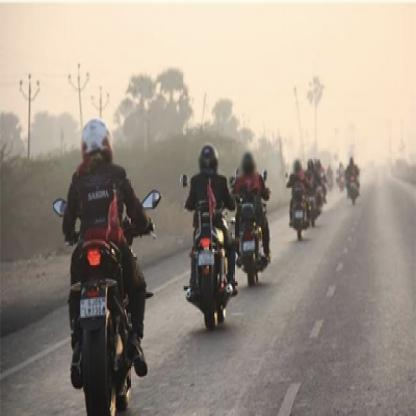Helmet: (79, 117, 114, 166), (196, 144, 224, 175), (242, 151, 259, 176), (291, 159, 304, 178), (348, 155, 358, 168), (308, 157, 316, 173)
